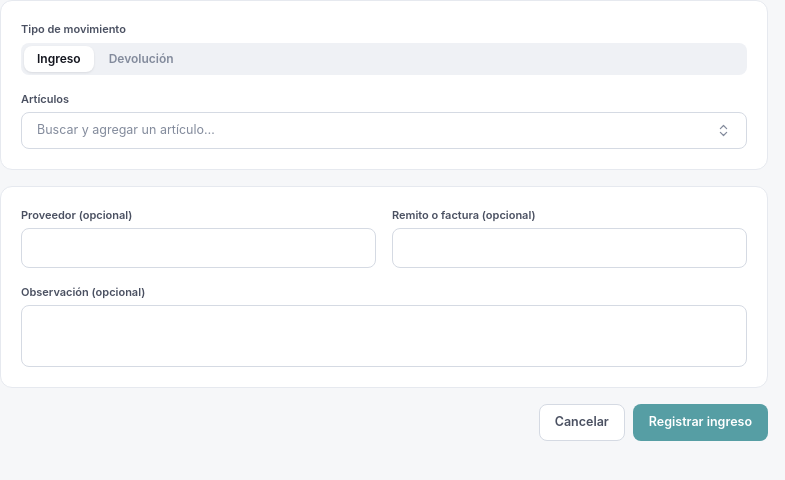
StockEntryScreen (IS-09, IS-23) › sin artículos no registra y lo avisa
Click the button "Registrar ingreso" at (700, 423), box [633,404,768,441]
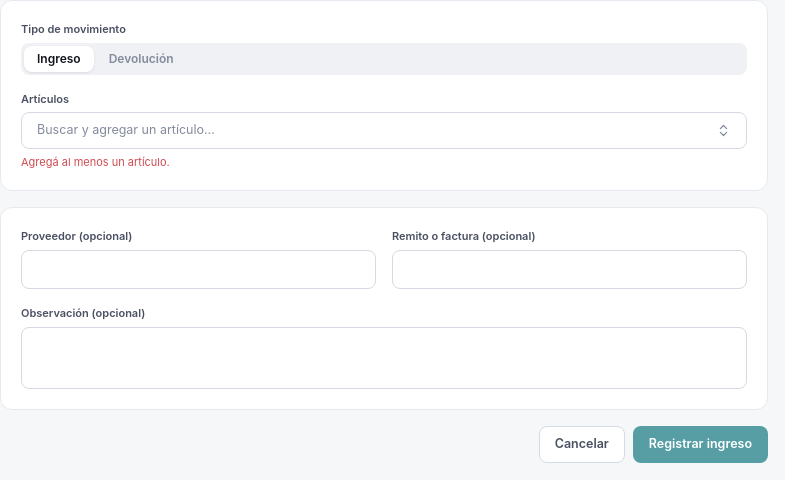
Now the text "Agregá al menos un artículo." is shown, box [21,155,170,169]
